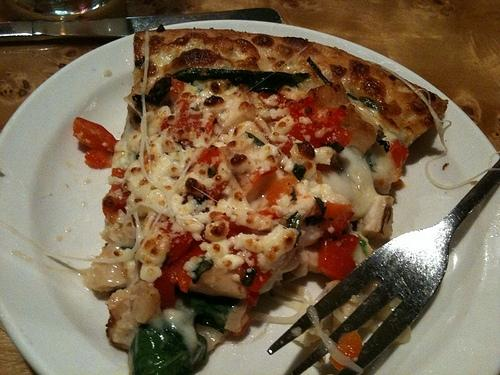tomato: (154, 230, 208, 312), (162, 99, 212, 148), (73, 117, 120, 154), (318, 240, 357, 282), (328, 330, 362, 372), (318, 200, 355, 234), (313, 107, 348, 128), (390, 138, 409, 168)
